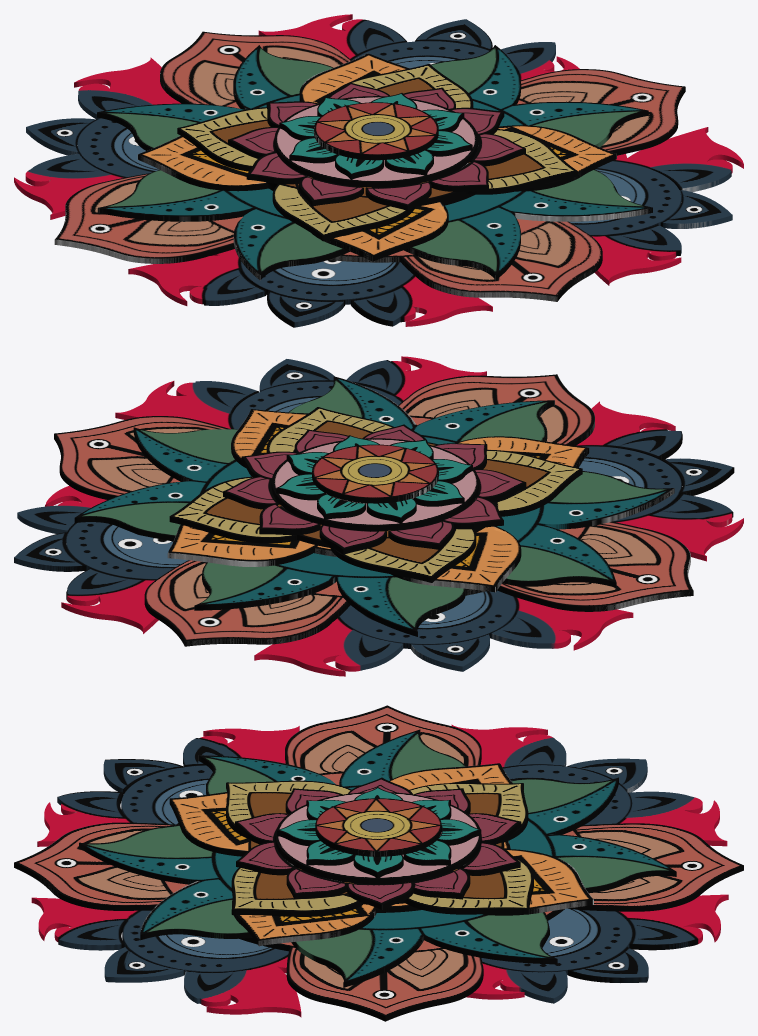
Rendered from mandala.gltf.
3 views of the same model, one above another, from view 1: azimuth 30°, elevation 25°; view 2: azimuth 150°, elevation 25°; view 3: azimuth 270°, elevation 25° (orthographic).
Visible parts, largest first — view 1: Curve.017, Curve.006, Curve.005, Curve.008, Curve.007, Curve.009, Curve.012, Curve.010, Curve.011; view 2: Curve.017, Curve.006, Curve.005, Curve.008, Curve.007, Curve.009, Curve.012, Curve.010, Curve.011; view 3: Curve.017, Curve.006, Curve.005, Curve.008, Curve.007, Curve.009, Curve.012, Curve.010, Curve.011.
Part boxes in pixels (<box>): Curve.017: <box>14,14,743,327</box>; Curve.006: <box>97,45,652,280</box>; Curve.005: <box>54,31,685,301</box>; Curve.008: <box>177,64,577,241</box>; Curve.007: <box>137,53,616,261</box>; Curve.009: <box>228,82,525,210</box>; Curve.012: <box>314,102,438,160</box>; Curve.010: <box>279,93,472,179</box>; Curve.011: <box>274,96,478,187</box>; Curve.017: <box>14,356,743,676</box>; Curve.006: <box>74,376,674,636</box>; Curve.005: <box>54,374,693,646</box>; Curve.008: <box>169,407,582,582</box>; Curve.007: <box>167,409,589,592</box>; Curve.009: <box>223,424,526,554</box>; Curve.012: <box>312,444,438,503</box>; Curve.010: <box>276,435,472,523</box>; Curve.011: <box>271,438,478,531</box>; Curve.017: <box>31,724,728,1017</box>; Curve.006: <box>79,729,676,987</box>; Curve.005: <box>14,705,743,1021</box>; Curve.008: <box>226,780,533,916</box>; Curve.007: <box>169,763,593,946</box>; Curve.009: <box>235,777,521,909</box>; Curve.012: <box>315,798,441,856</box>; Curve.010: <box>277,787,481,878</box>; Curve.011: <box>275,792,481,884</box>.
Size of the model in its own units: 2.52 by 0.18 by 2.5.
Materials: 9 (9 with a texture image).
